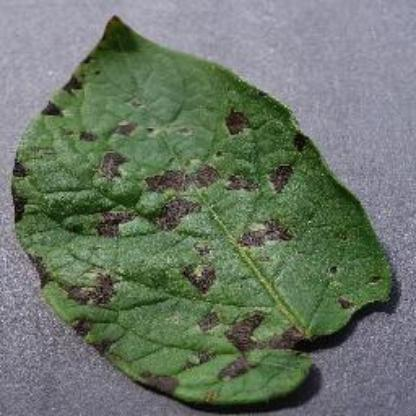Early-Blight: (8, 4, 416, 412)
